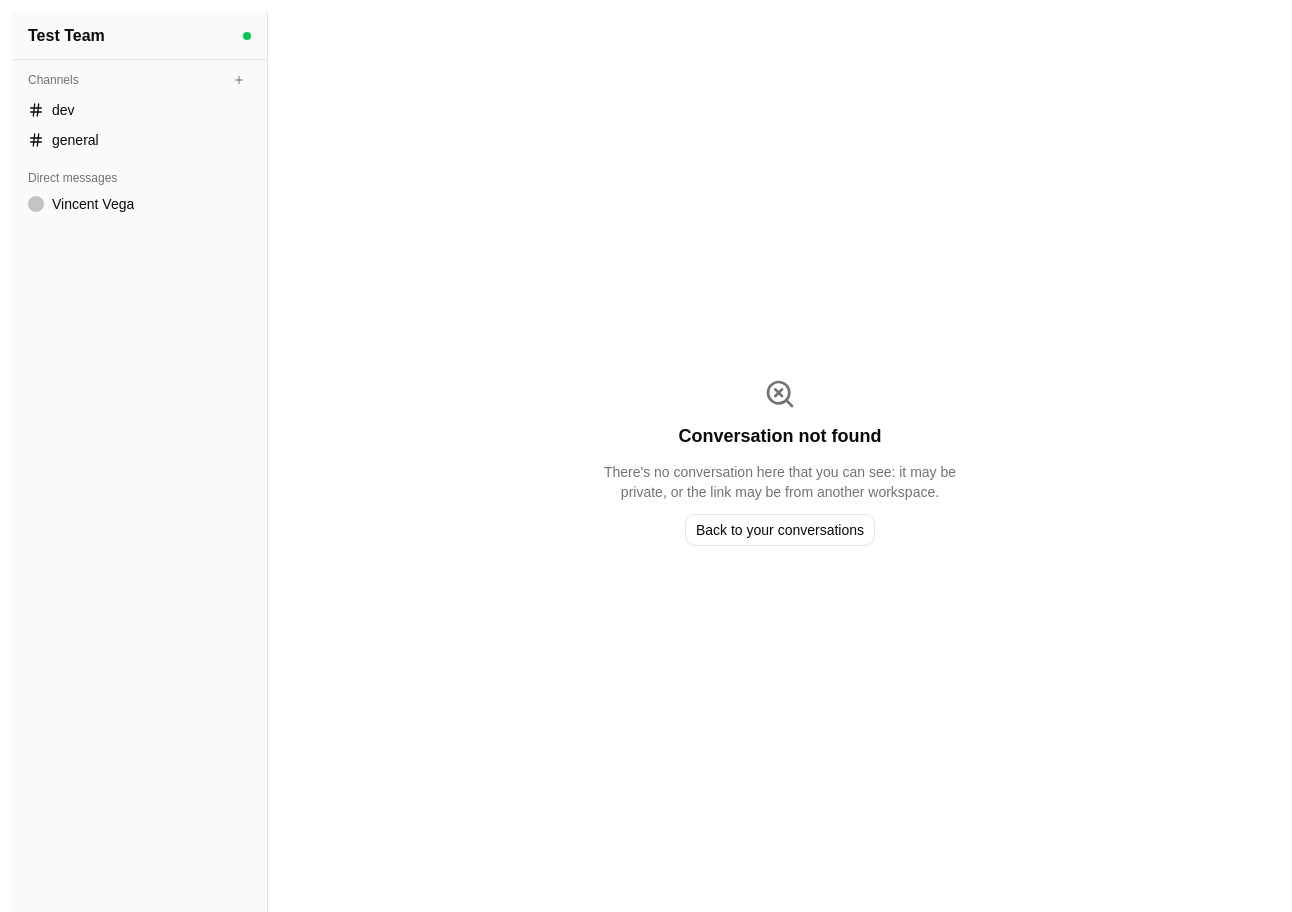
Scenario: links to a message › show a not-found view for a conversation that isn't there, with a way back
Expected: the message named "Connected" is shown, [243,32,251,40]
Expected: the heading "Conversation not found" is shown, [678,422,882,450]
Click the button "Back to your conversations" at (780, 530), box [685,514,875,546]
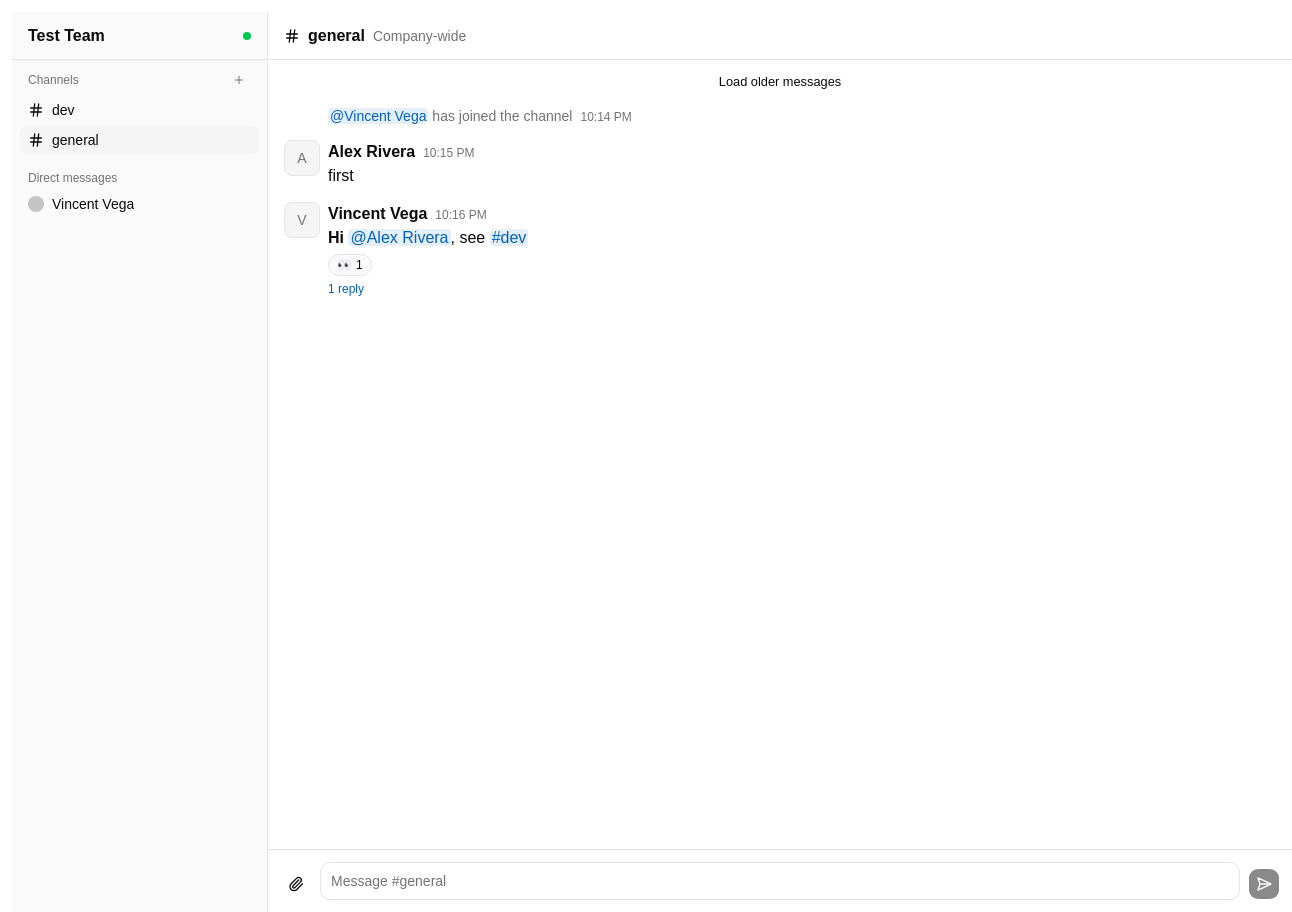
Expected: the heading "general" is shown, [308,24,365,48]
